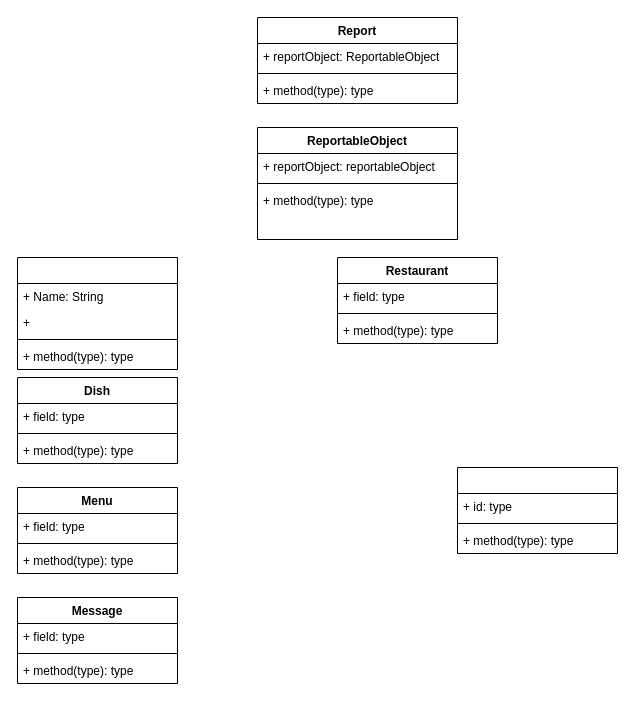
The diagram is 635 pixels wide and 704 high, and some of its shapes have lost their labels. Here are the shapes that lost their labels. From the top down, the box of each, then its label:
(16, 256, 178, 370): Ingredient
(456, 466, 618, 554): Restaurateur
